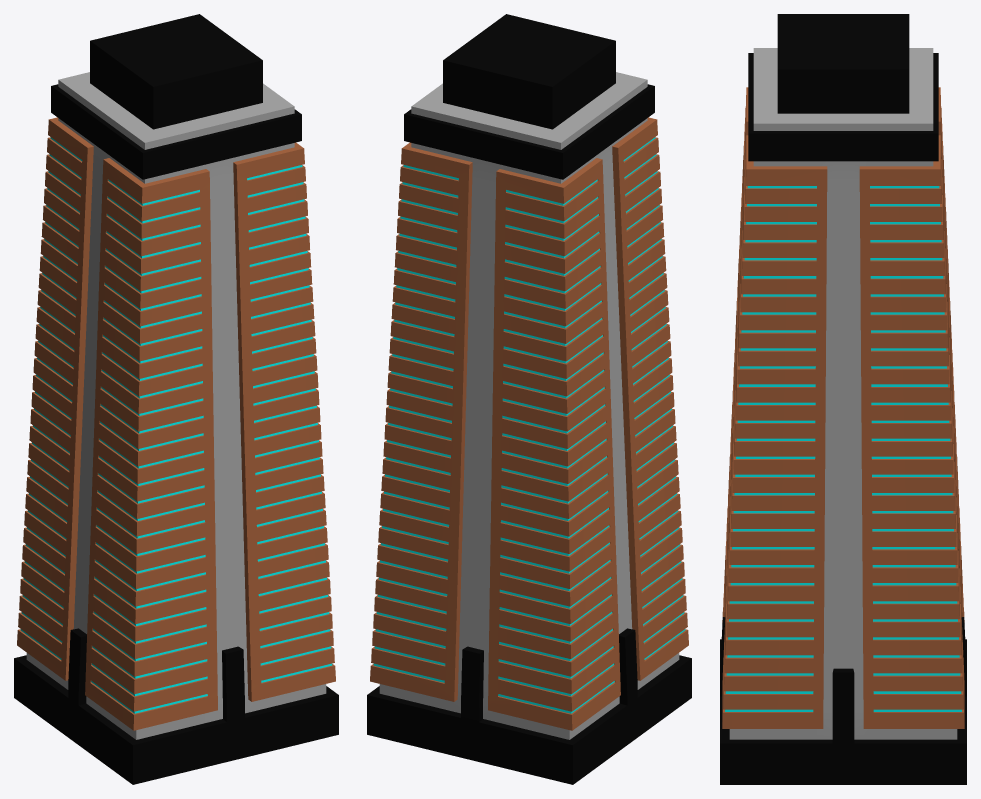
The model's file is SqueredTower_001.fbx.
3 renders of one model, left to right at view 1: azimuth 30°, elevation 25°; view 2: azimuth 150°, elevation 25°; view 3: azimuth 270°, elevation 25°, orthographic. The views are drawn at different scales.
Parts seen in each view (by area): view 1: SqueredTower_001; view 2: SqueredTower_001; view 3: SqueredTower_001.
Part boxes in pixels (x1,y1,x2,y2): SqueredTower_001: (14, 14, 338, 784); SqueredTower_001: (367, 14, 691, 784); SqueredTower_001: (720, 14, 966, 784).
Bounding box in the file's own units: 40.71 × 126 × 40.71.
